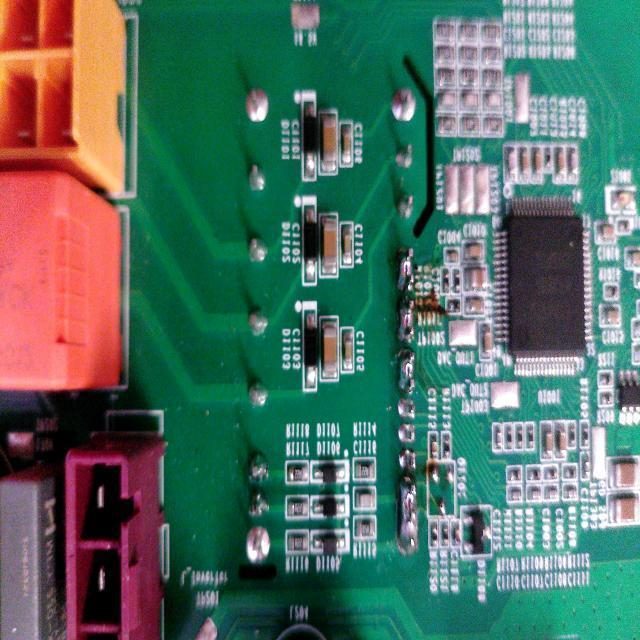Soldering shorted: (396, 469, 418, 556), (392, 292, 420, 345), (394, 236, 417, 294), (395, 342, 418, 396)
